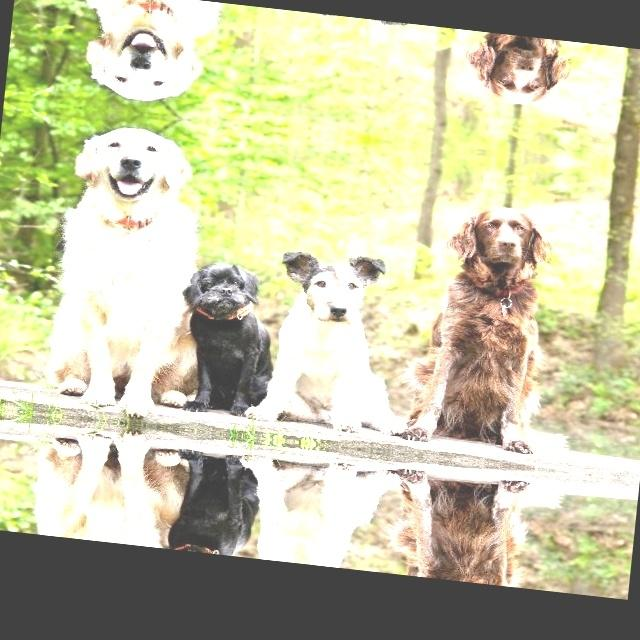dog: (40, 113, 211, 413), (409, 192, 569, 458), (262, 233, 414, 435), (27, 430, 178, 549), (70, 0, 224, 116), (396, 467, 540, 589), (248, 457, 392, 572), (444, 28, 586, 118), (302, 12, 437, 45)
